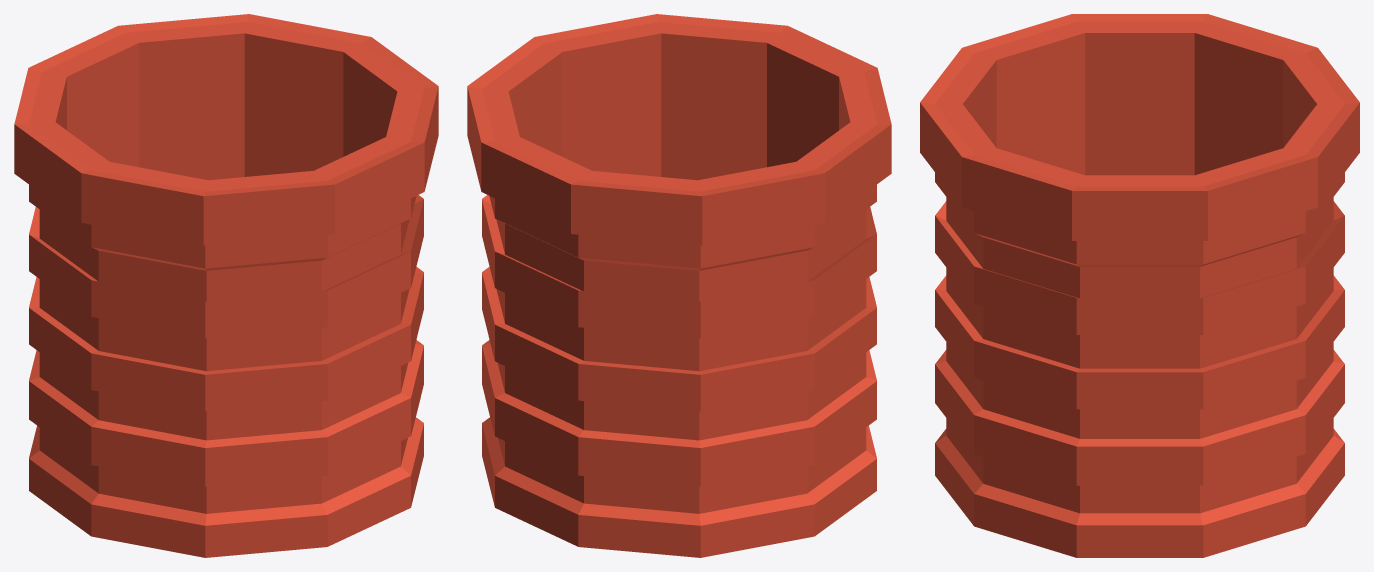
The model's file is pot.fbx.
3 renders of one model, left to right at view 1: azimuth 30°, elevation 25°; view 2: azimuth 150°, elevation 25°; view 3: azimuth 270°, elevation 25°, orthographic.
Visible parts, largest first — view 1: Cylinder; view 2: Cylinder; view 3: Cylinder.
Boxes of the visible parts, <box> form: Cylinder: <box>14,14,438,557</box>; Cylinder: <box>467,14,891,557</box>; Cylinder: <box>920,14,1359,557</box>.
Size of the model in its own units: 106 by 104 by 111.
